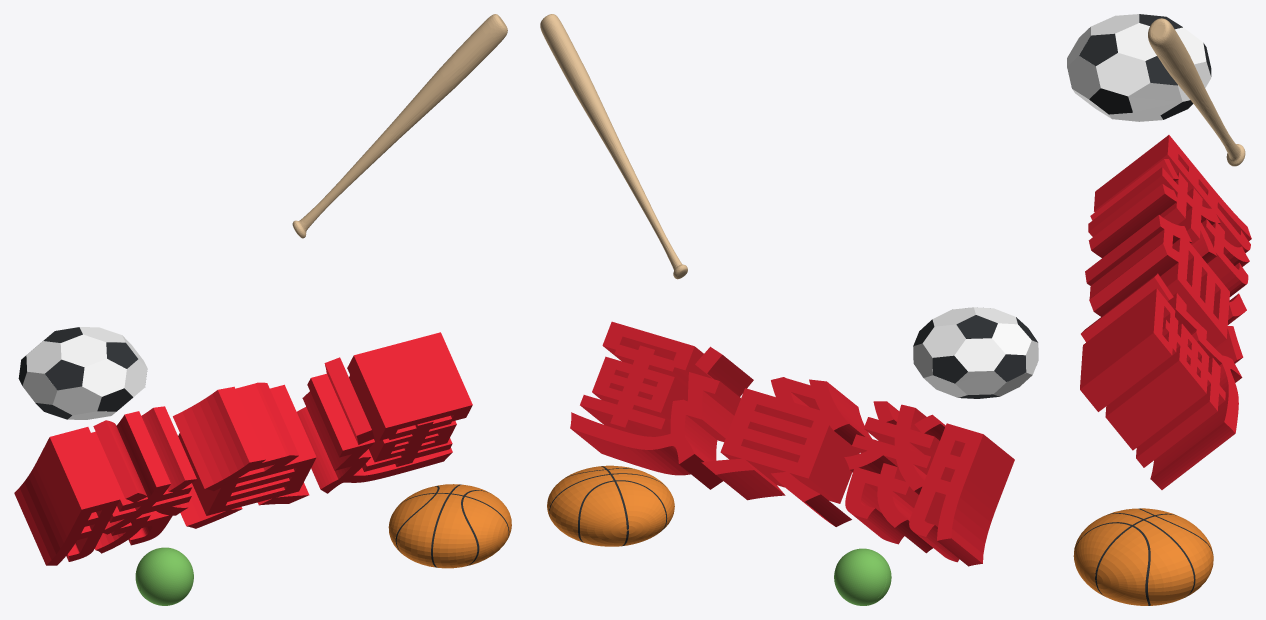
File: tinker.obj
3 renders of one model, left to right at view 1: azimuth 30°, elevation 25°; view 2: azimuth 150°, elevation 25°; view 3: azimuth 270°, elevation 25°, orthographic. The views are drawn at different scales.
Visible parts, largest first — view 1: group_0_15277357, group_0_15435567, group_0_16448250, group_0_14860437, group_0_2829873, group_0_7979357; view 2: group_0_15277357, group_0_15435567, group_0_16448250, group_0_14860437, group_0_2829873, group_0_7979357; view 3: group_0_15277357, group_0_15435567, group_0_16448250, group_0_2829873, group_0_14860437.
Boxes of the visible parts, bbox=[...] form: group_0_15277357: bbox=[14, 332, 472, 565]; group_0_15435567: bbox=[388, 484, 511, 568]; group_0_16448250: bbox=[22, 327, 147, 419]; group_0_14860437: bbox=[292, 14, 507, 238]; group_0_2829873: bbox=[18, 327, 509, 567]; group_0_7979357: bbox=[135, 547, 193, 605]; group_0_15277357: bbox=[570, 321, 1014, 566]; group_0_15435567: bbox=[547, 465, 674, 546]; group_0_16448250: bbox=[913, 307, 1038, 397]; group_0_14860437: bbox=[540, 14, 687, 279]; group_0_2829873: bbox=[549, 315, 1037, 546]; group_0_7979357: bbox=[834, 548, 891, 605]; group_0_15277357: bbox=[1080, 135, 1251, 489]; group_0_15435567: bbox=[1073, 508, 1213, 605]; group_0_16448250: bbox=[1067, 14, 1211, 121]; group_0_2829873: bbox=[1074, 14, 1213, 605]; group_0_14860437: bbox=[1148, 18, 1245, 166].
Size of the model in its own units: 144 by 148 by 40.97.
